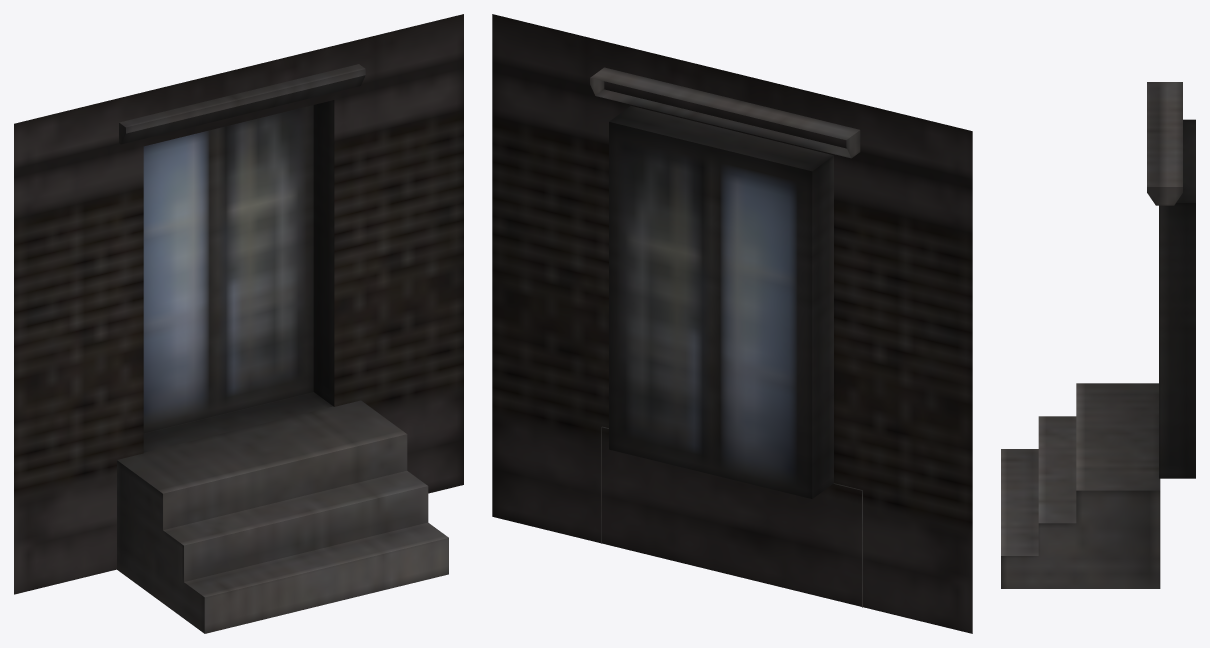
The model's file is B10_Door.FBX.
3 views of the same model, side by side, from view 1: azimuth 30°, elevation 25°; view 2: azimuth 150°, elevation 25°; view 3: azimuth 270°, elevation 25° (orthographic). The views are drawn at different scales.
Visible parts, largest first — view 1: B10_Door; view 2: B10_Door; view 3: B10_Door.
Part boxes in pixels (<box>): B10_Door: <box>14,14,463,633</box>; B10_Door: <box>492,14,972,633</box>; B10_Door: <box>1001,82,1195,588</box>.
Bounding box in the file's own units: 4 × 4 × 1.67.
